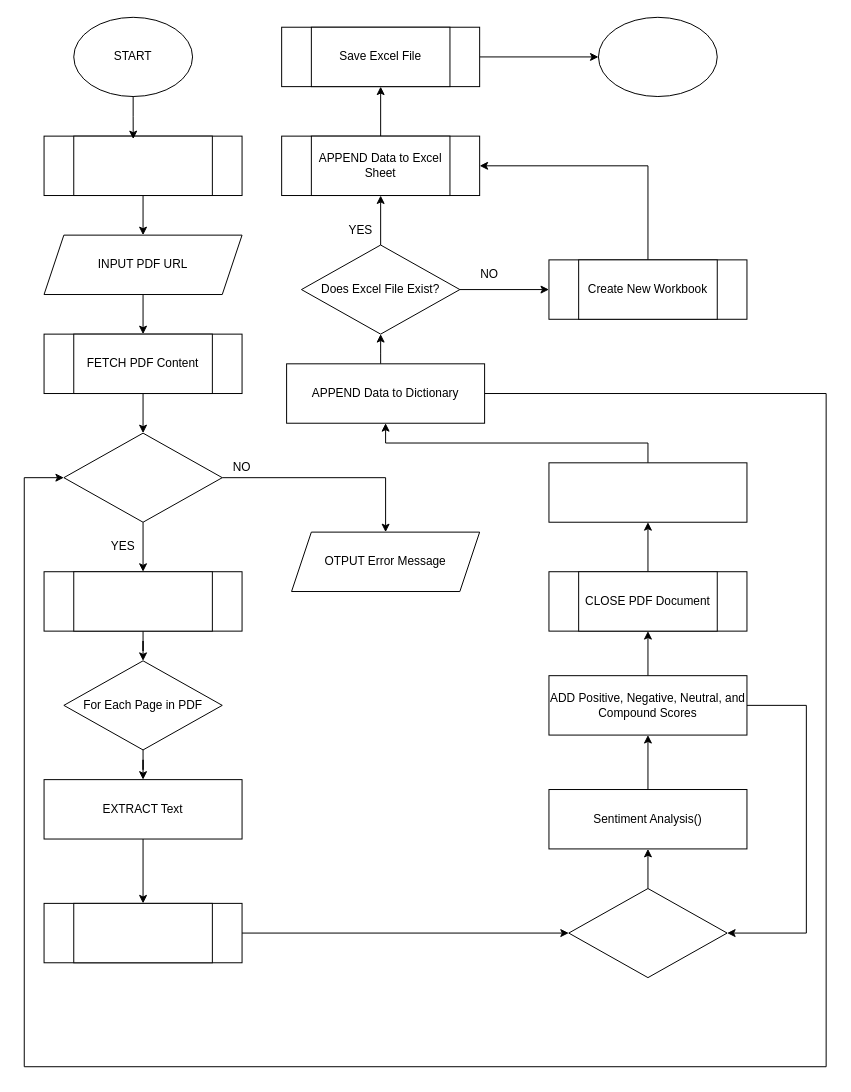
Image size: 851x1092. Some labels were removed from this diagram. The shapes that lost their labels are listed below. From the top down, each one's box as (x1, y1, x2, y2) in pixels, then its label:
(597, 16, 717, 97): END
(73, 135, 212, 196): IMPORT Libraries
(63, 432, 222, 522): IS Fetch Successful?
(548, 462, 747, 522): CALCULATE Avg Positive, Negative, Neutral, and Compound Scores
(73, 571, 212, 631): OPEN PDF Content
(73, 902, 212, 963): TOKENIZE Text
(568, 888, 727, 978): For Each Sentence
